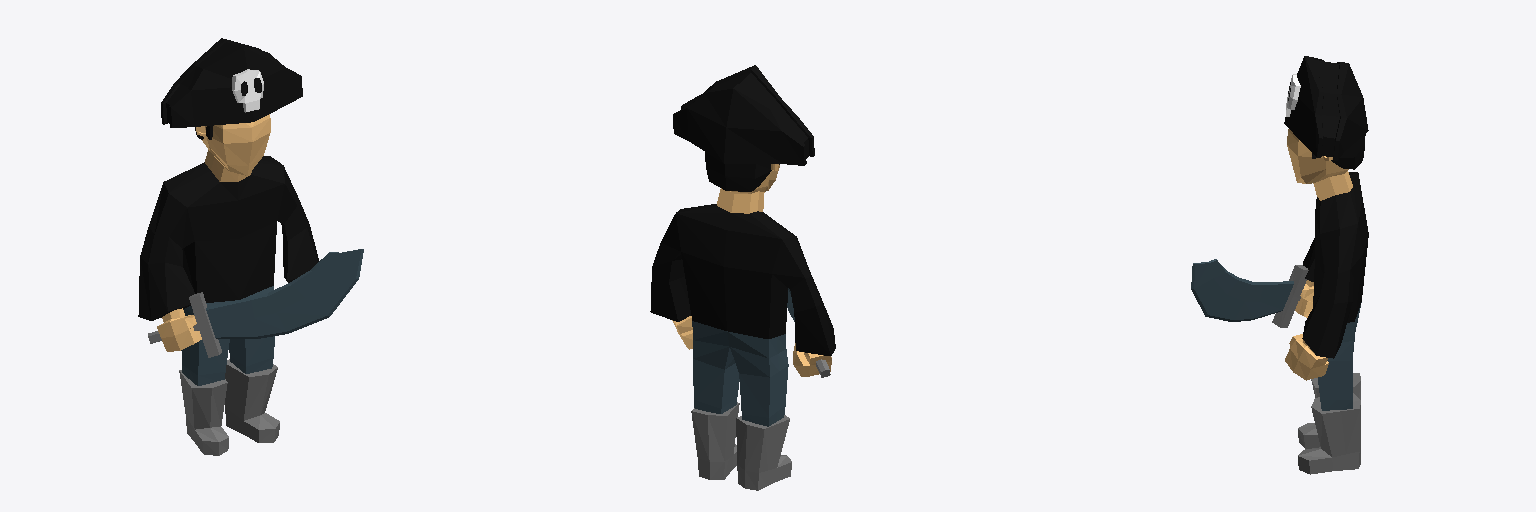
Rendered from pirate_zeroed.obj.
3 views of the same model, side by side, from view 1: azimuth 30°, elevation 25°; view 2: azimuth 150°, elevation 25°; view 3: azimuth 270°, elevation 25° (orthographic).
Parts seen in each view (by area): view 1: pirate_zeroed; view 2: pirate_zeroed; view 3: pirate_zeroed.
Boxes of the visible parts, x1=… form: pirate_zeroed: x1=138, y1=38, x2=363, y2=455; pirate_zeroed: x1=650, y1=65, x2=835, y2=490; pirate_zeroed: x1=1191, y1=56, x2=1368, y2=474.
Bounding box in the file's own units: 0.4789 × 1.01 × 0.4081.